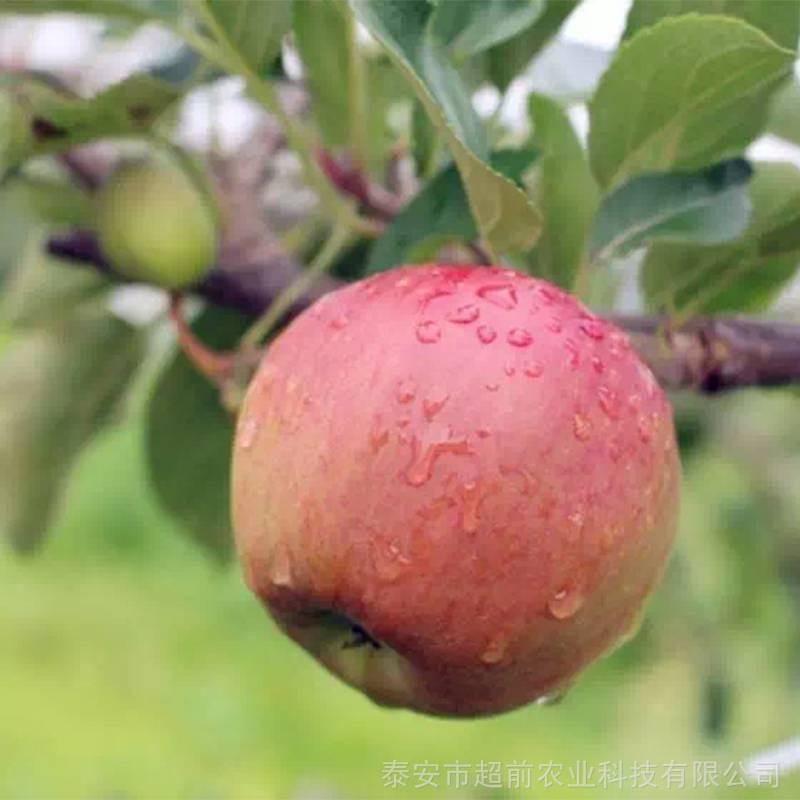apple: (227, 262, 678, 726), (68, 144, 217, 289)
